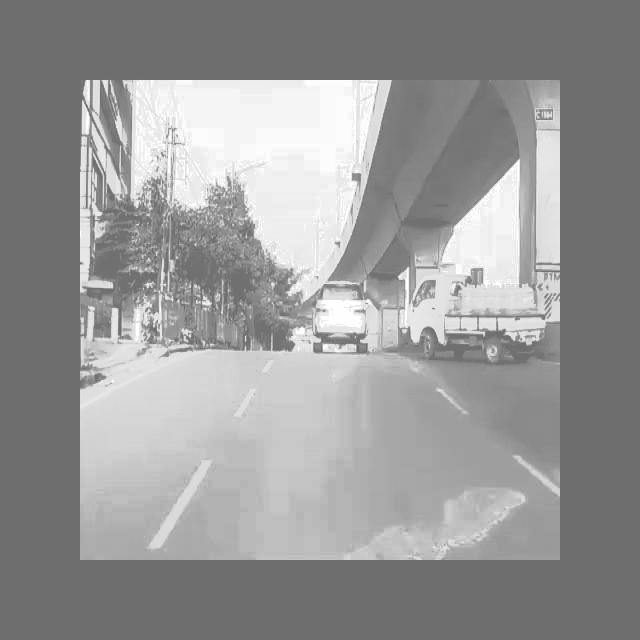Car: (309, 272, 371, 368)
